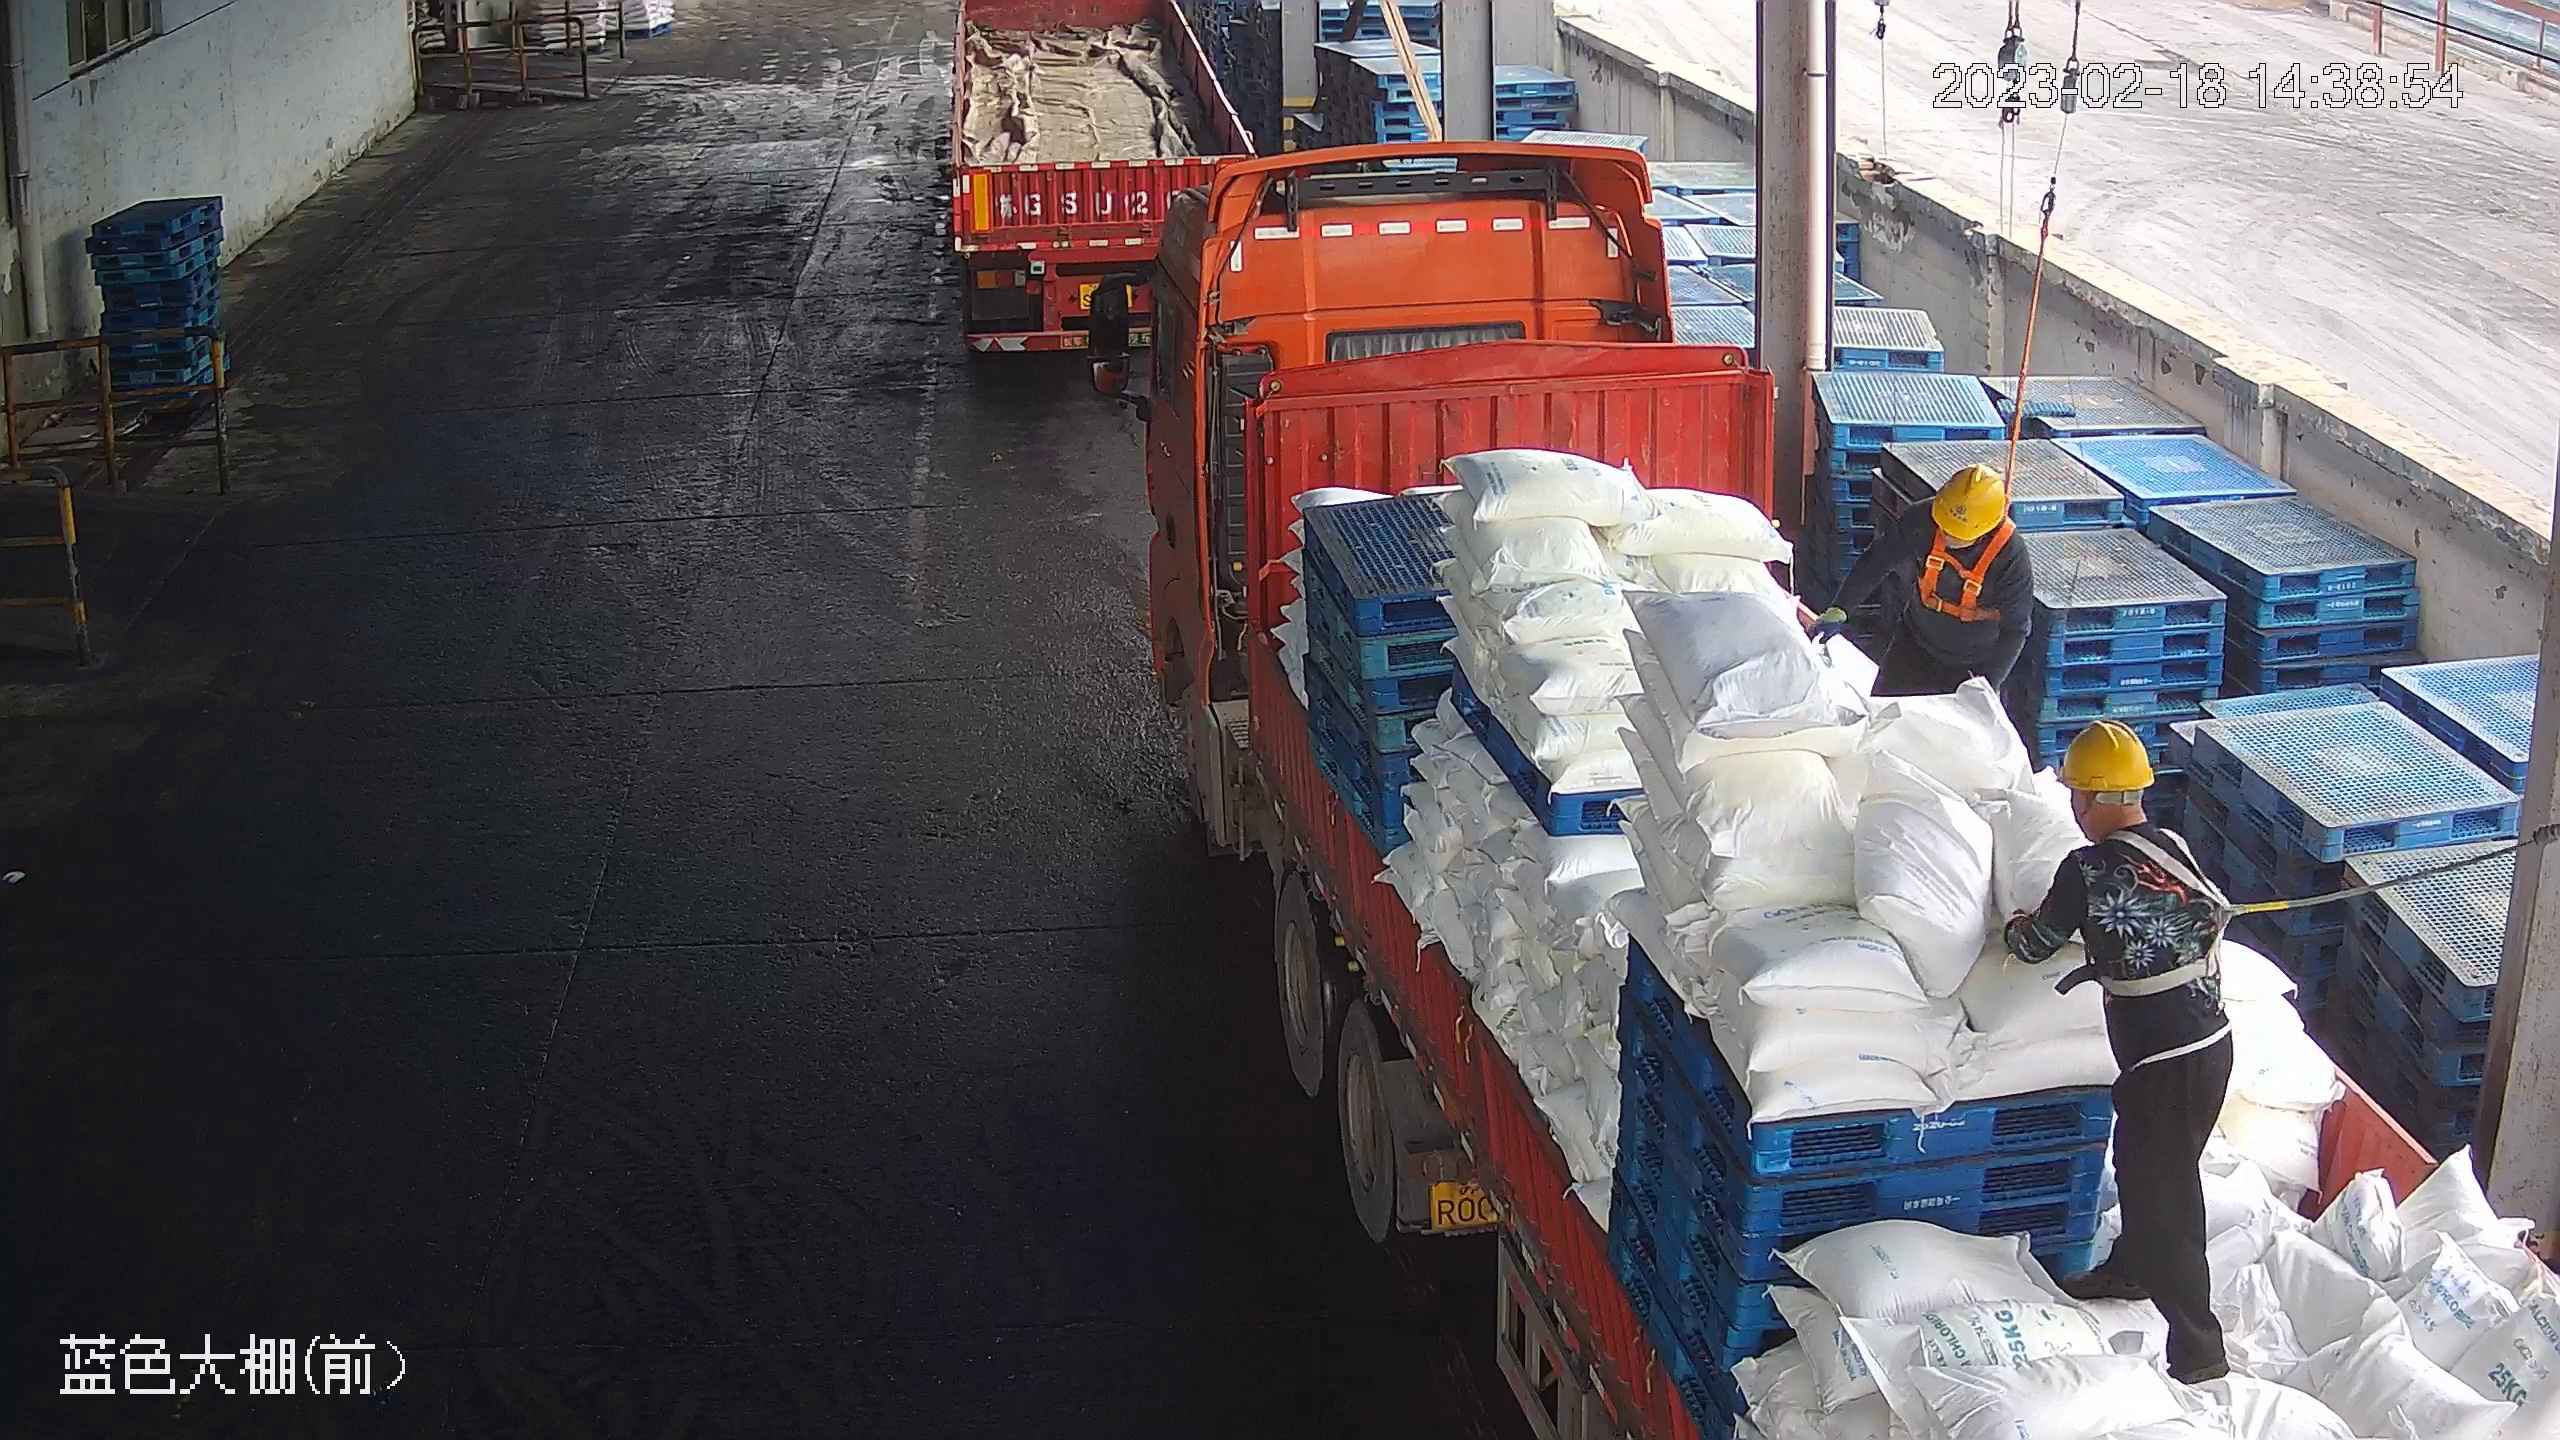belt: (2091, 834, 2262, 997), (1916, 516, 2016, 619)
head: (2036, 717, 2210, 909), (1883, 462, 2036, 596)
helmet: (2051, 716, 2155, 794), (1927, 462, 2011, 541)
people: (1994, 718, 2240, 1384), (1807, 459, 2041, 742)
truck: (1078, 151, 2551, 1435), (943, 8, 1274, 358)
